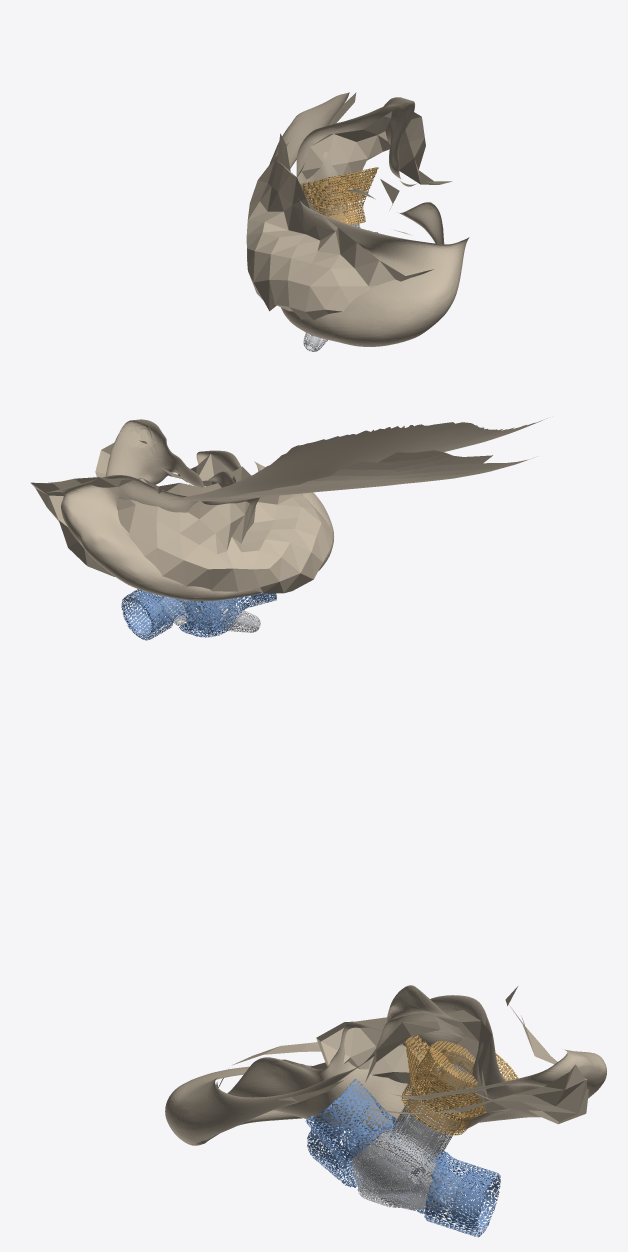
The model's file is seated_scene.glb.
The picture shows the model from 3 angles, top to bottom: view 1: azimuth 30°, elevation 25°; view 2: azimuth 150°, elevation 25°; view 3: azimuth 270°, elevation 25°; orthographic projection. The views are drawn at different scales.
Parts seen in each view (by area): view 1: ear, carrier; view 2: ear, jacket_wing, core; view 3: ear, jacket_wing, carrier, core, faceplate, nozzle_insert_short.
Part boxes in pixels (bbox=[...]): ear: bbox=[246, 92, 469, 346]; carrier: bbox=[300, 167, 378, 224]; ear: bbox=[31, 418, 547, 601]; jacket_wing: bbox=[121, 589, 276, 640]; core: bbox=[153, 596, 260, 632]; ear: bbox=[165, 985, 606, 1145]; jacket_wing: bbox=[305, 1078, 500, 1237]; carrier: bbox=[401, 1035, 518, 1135]; core: bbox=[354, 1112, 464, 1209]; faceplate: bbox=[352, 1145, 433, 1209]; nozzle_insert_short: bbox=[393, 1062, 472, 1157].
Size of the model in its own units: 84.99 by 59.63 by 84.99.
